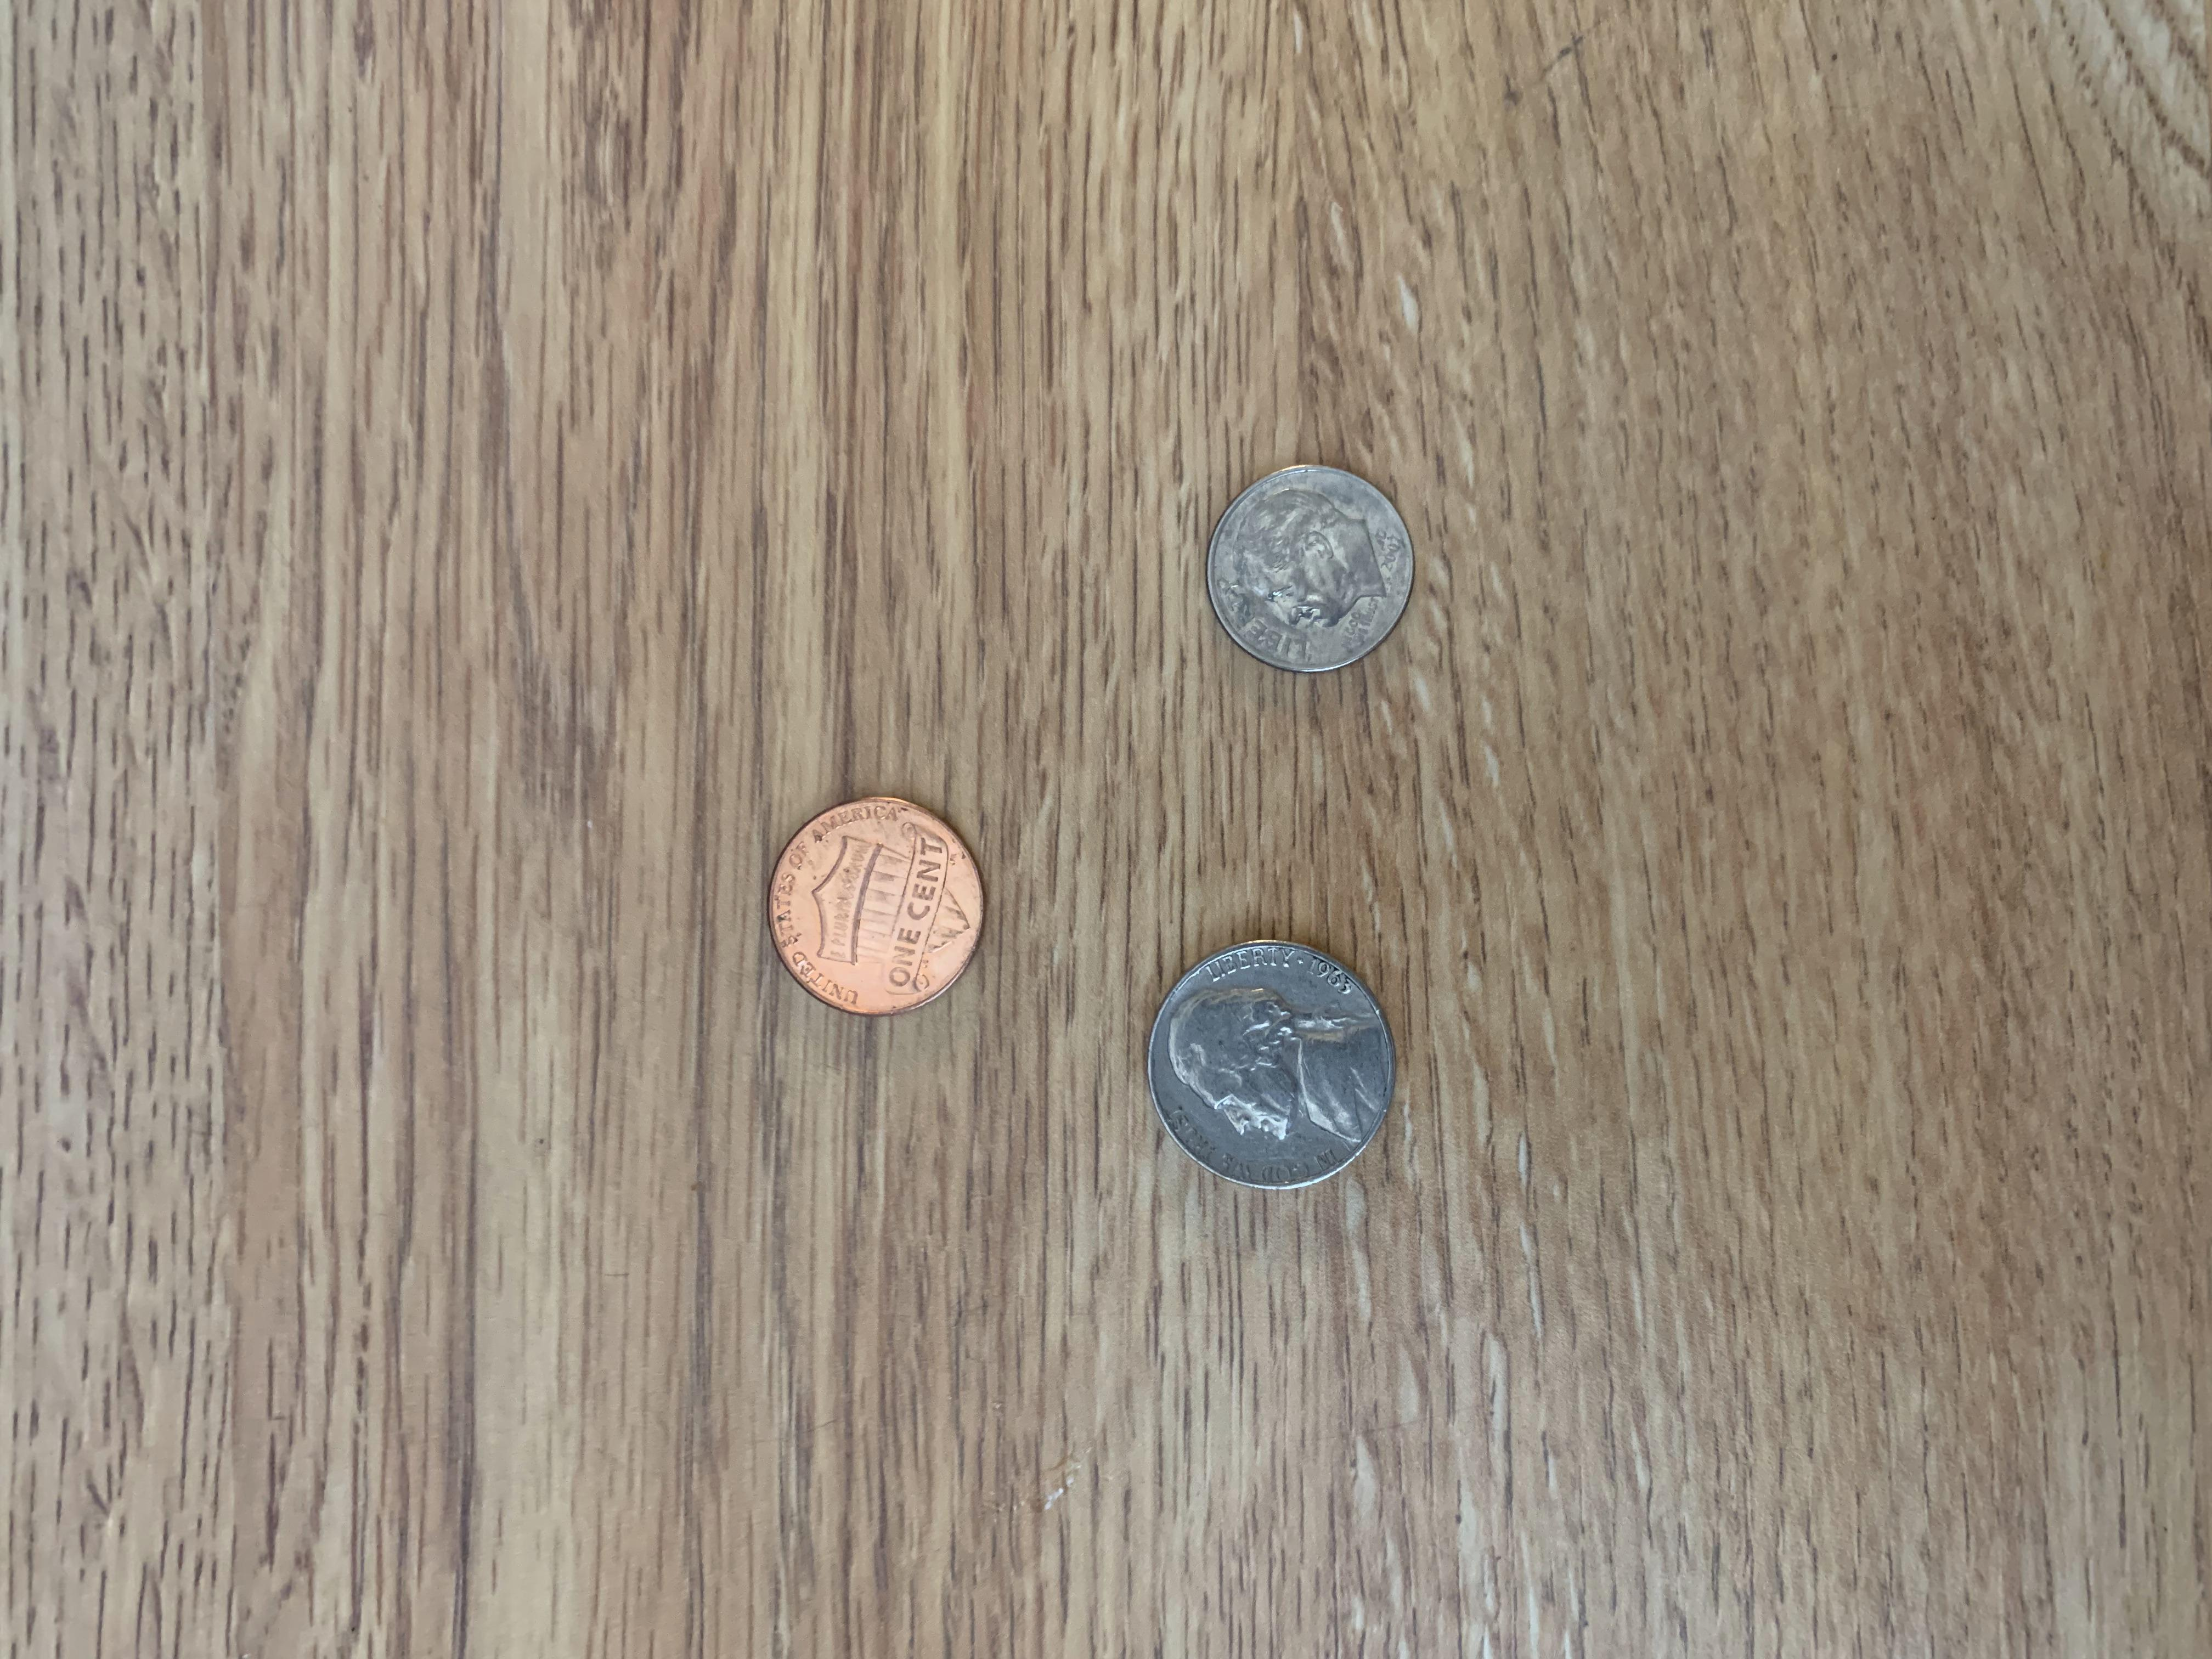Dime: (1198, 457, 1418, 685)
Nickel: (1134, 936, 1416, 1199)
Penny: (752, 781, 1000, 1028)
